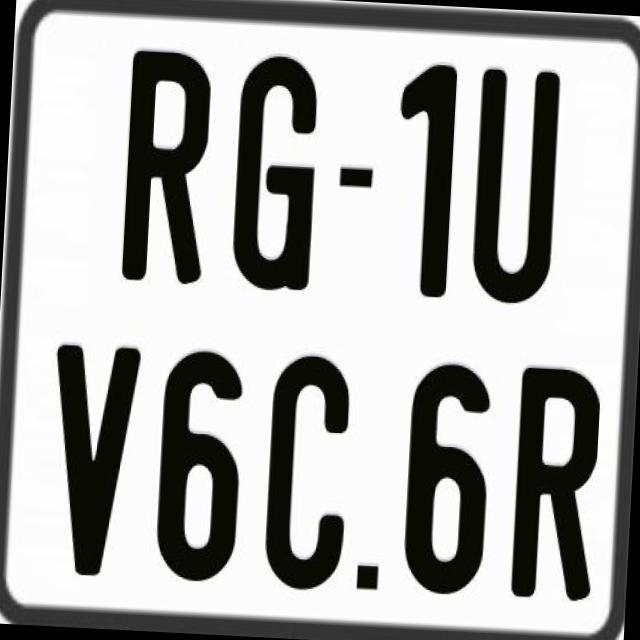1: (389, 59, 463, 302)
6: (398, 360, 493, 598), (150, 346, 244, 580)
C: (260, 354, 354, 596)
G: (227, 55, 319, 297)
R: (119, 51, 215, 290), (507, 366, 598, 602)
U: (468, 66, 563, 303)
V: (47, 343, 149, 576)
